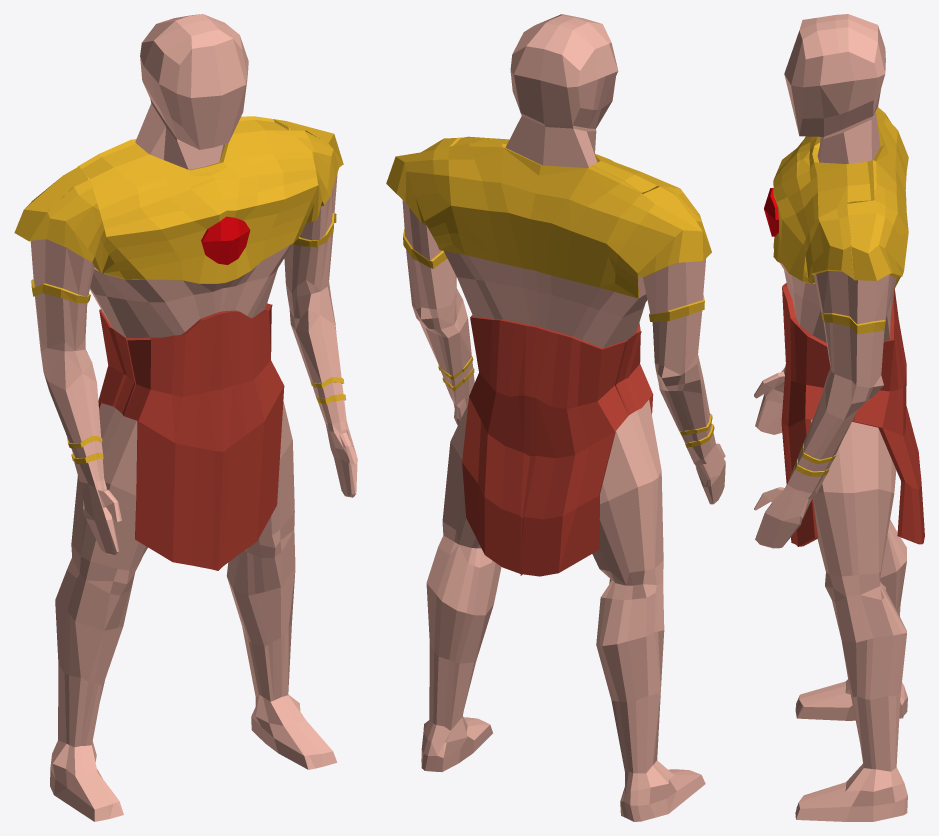
File: 2tanque armadura (1).fbx
The picture shows the model from 3 angles, left to right: view 1: azimuth 30°, elevation 25°; view 2: azimuth 150°, elevation 25°; view 3: azimuth 270°, elevation 25°; orthographic projection.
Parts seen in each view (by area): view 1: Cube; view 2: Cube; view 3: Cube.
Part boxes in pixels (left/top/right/bottom): Cube: left=14, top=14, right=357, bottom=821; Cube: left=386, top=14, right=725, bottom=821; Cube: left=754, top=14, right=924, bottom=821.
Bounding box in the file's own units: 239 × 539 × 112.
